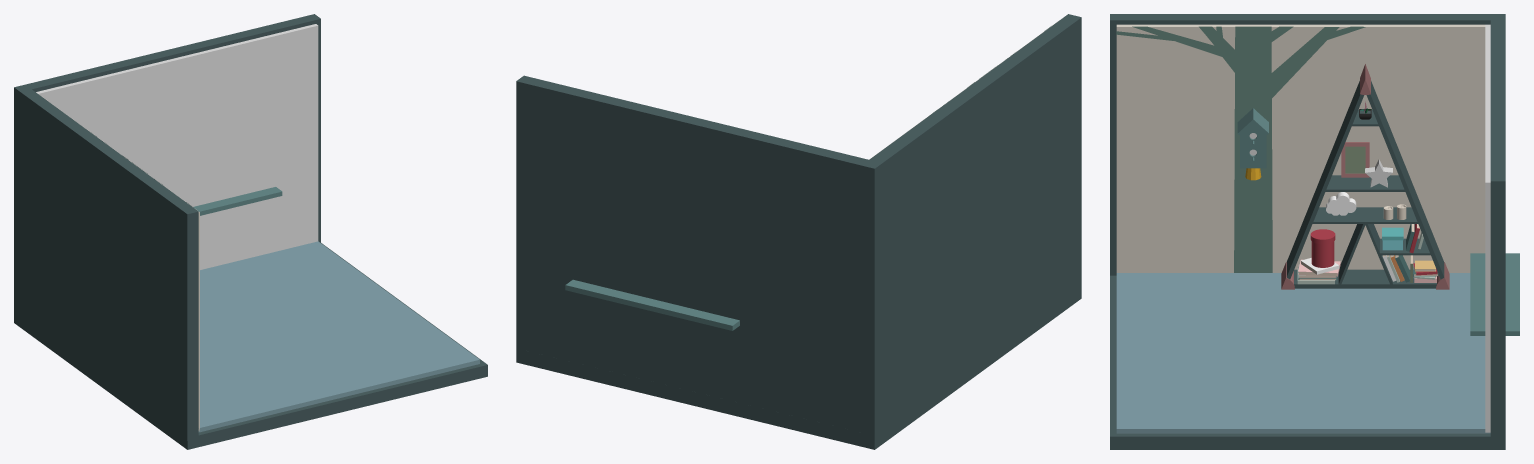
Rendered from Furn2_bookcase_right_color3_joined.fbx.
The picture shows the model from 3 angles, left to right: view 1: azimuth 30°, elevation 25°; view 2: azimuth 150°, elevation 25°; view 3: azimuth 270°, elevation 25°; orthographic projection. The views are drawn at different scales.
Parts seen in each view (by area): view 1: Куб.036, Куб.035, Куб.074; view 2: Куб.036, Куб.035, Куб.074; view 3: Куб.036, Куб.035, Куб.088, Плоскость.009, Куб.074.
Boxes of the visible parts, bbox=[...] form: Куб.036: bbox=[14, 14, 320, 440]; Куб.035: bbox=[14, 241, 487, 449]; Куб.074: bbox=[193, 187, 282, 215]; Куб.036: bbox=[516, 14, 1081, 439]; Куб.035: bbox=[516, 288, 1081, 449]; Куб.074: bbox=[565, 279, 739, 330]; Куб.036: bbox=[1110, 14, 1505, 439]; Куб.035: bbox=[1110, 273, 1505, 449]; Куб.088: bbox=[1237, 64, 1449, 289]; Плоскость.009: bbox=[1116, 26, 1365, 272]; Куб.074: bbox=[1470, 253, 1519, 335].
Bounding box in the file's own units: 911 × 682 × 943.
